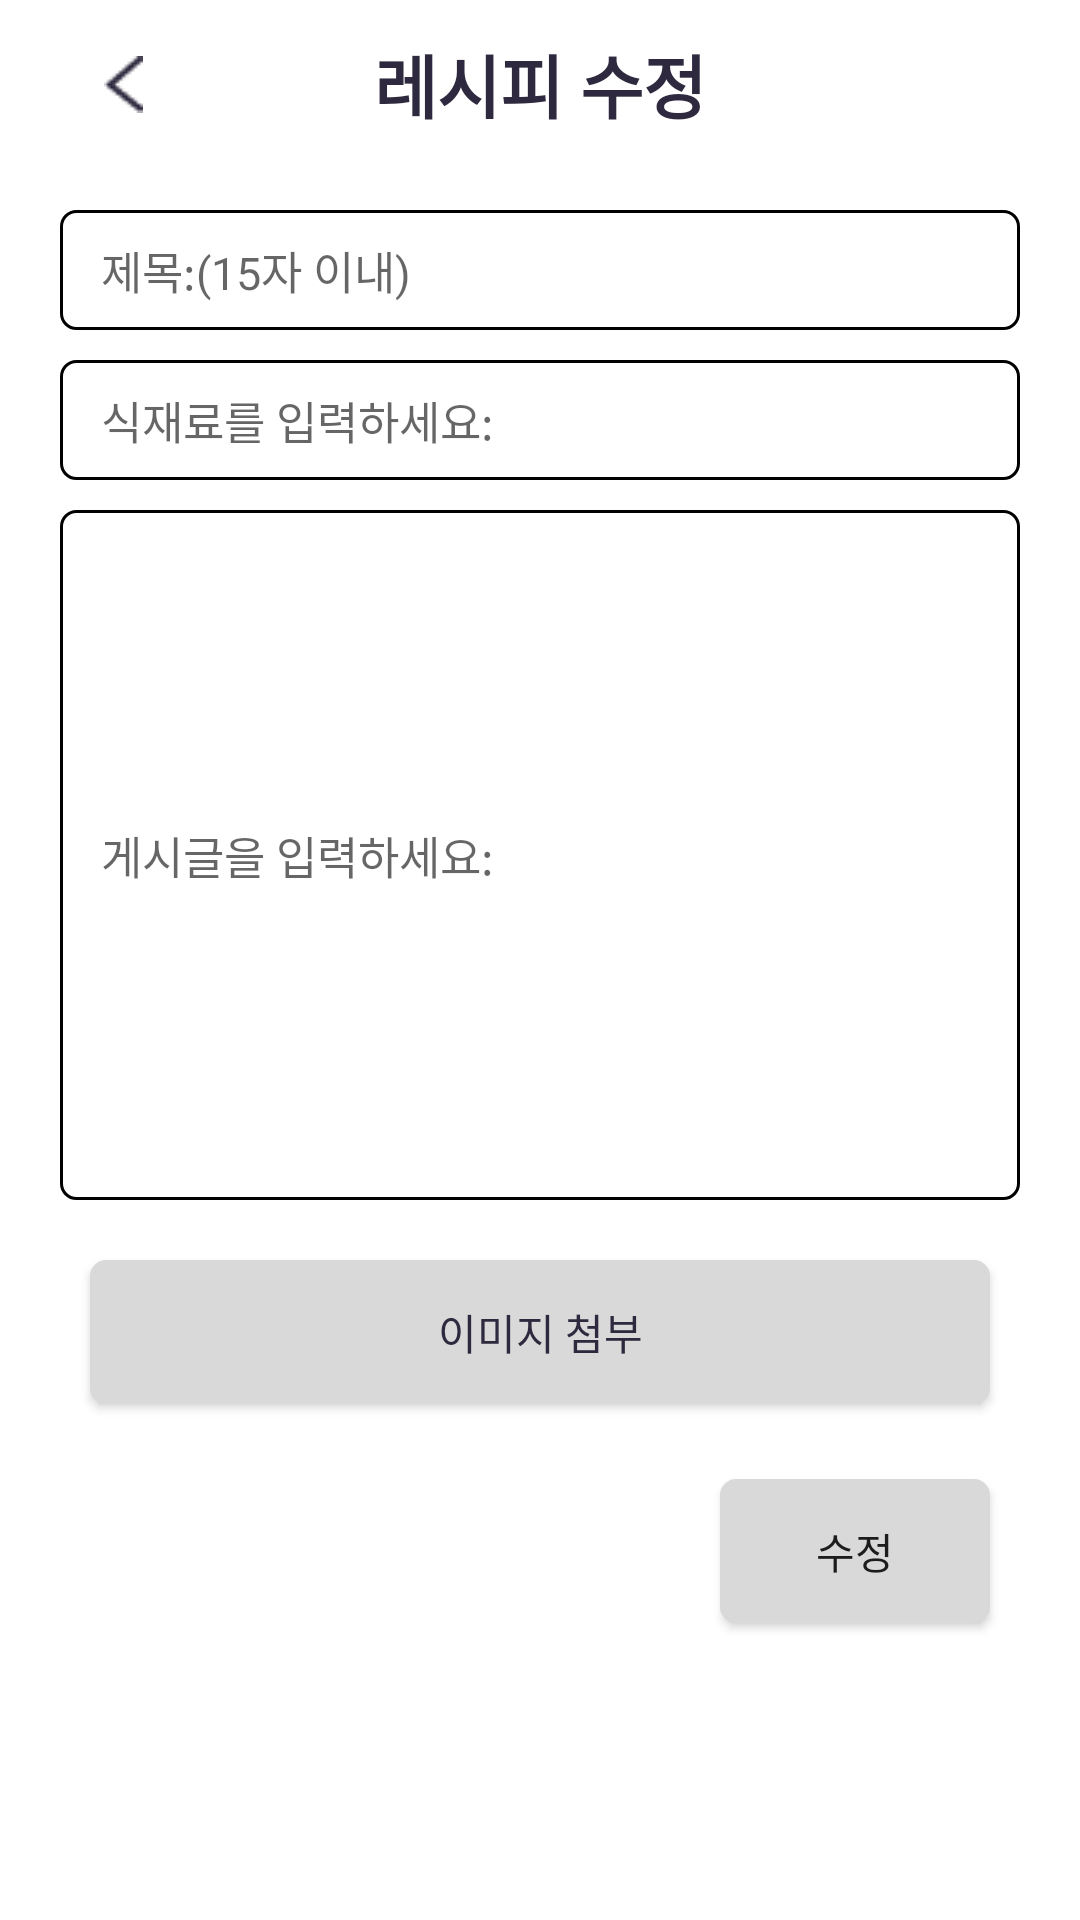

Point at icon controls on the screen. Image size 1080 x 1920, points as point (x, y).
arrow left: point (123, 84)
